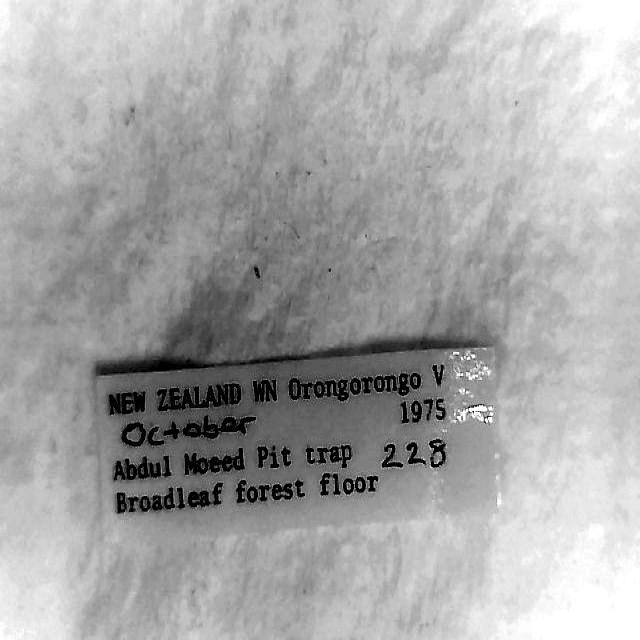mixed_label: (96, 350, 496, 534)
